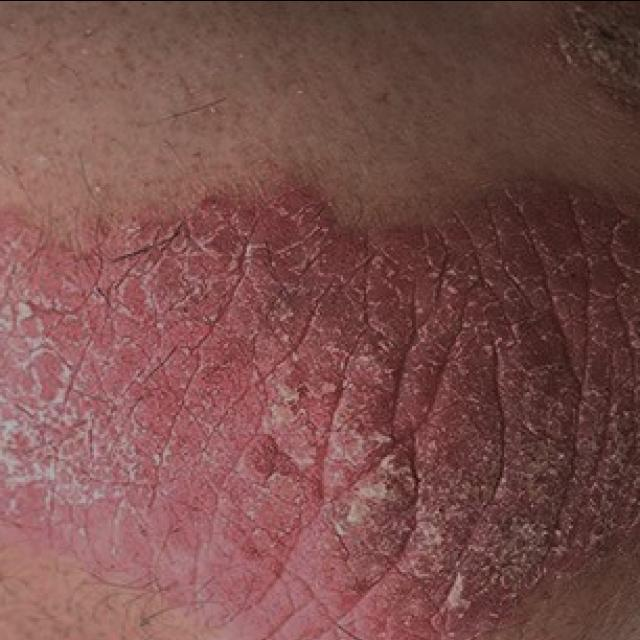Psoriasis: (0, 157, 640, 640)
